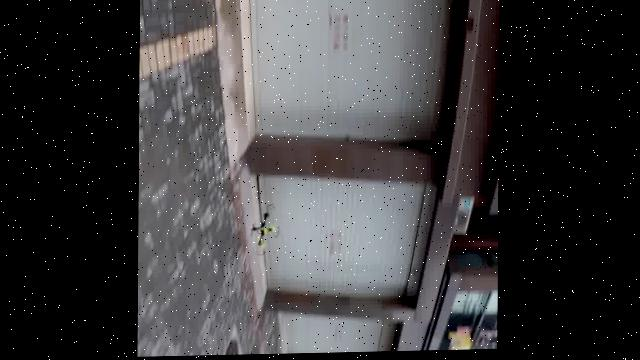drone: (243, 202, 280, 257)
